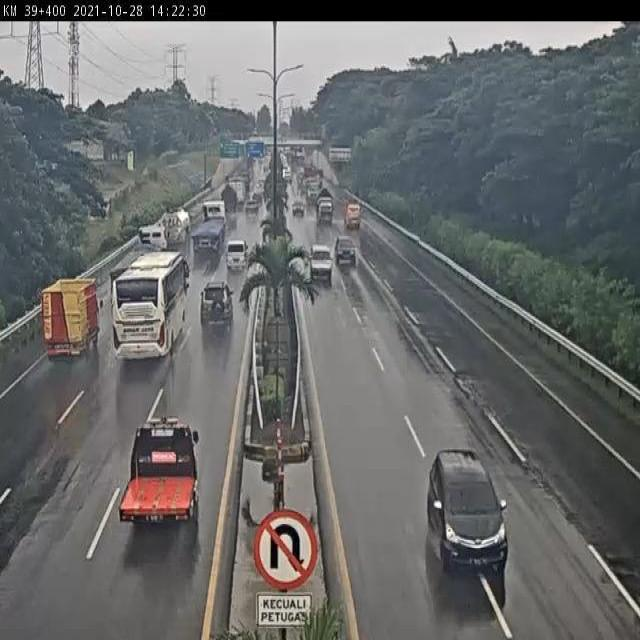bus-l-: (112, 252, 190, 357)
car: (429, 450, 512, 574), (307, 242, 333, 286), (225, 241, 248, 271)
truck-m-: (157, 207, 193, 252)
truck-s-: (118, 416, 203, 528), (42, 279, 98, 361)
truck-xl-: (107, 226, 170, 286), (192, 200, 226, 249)
